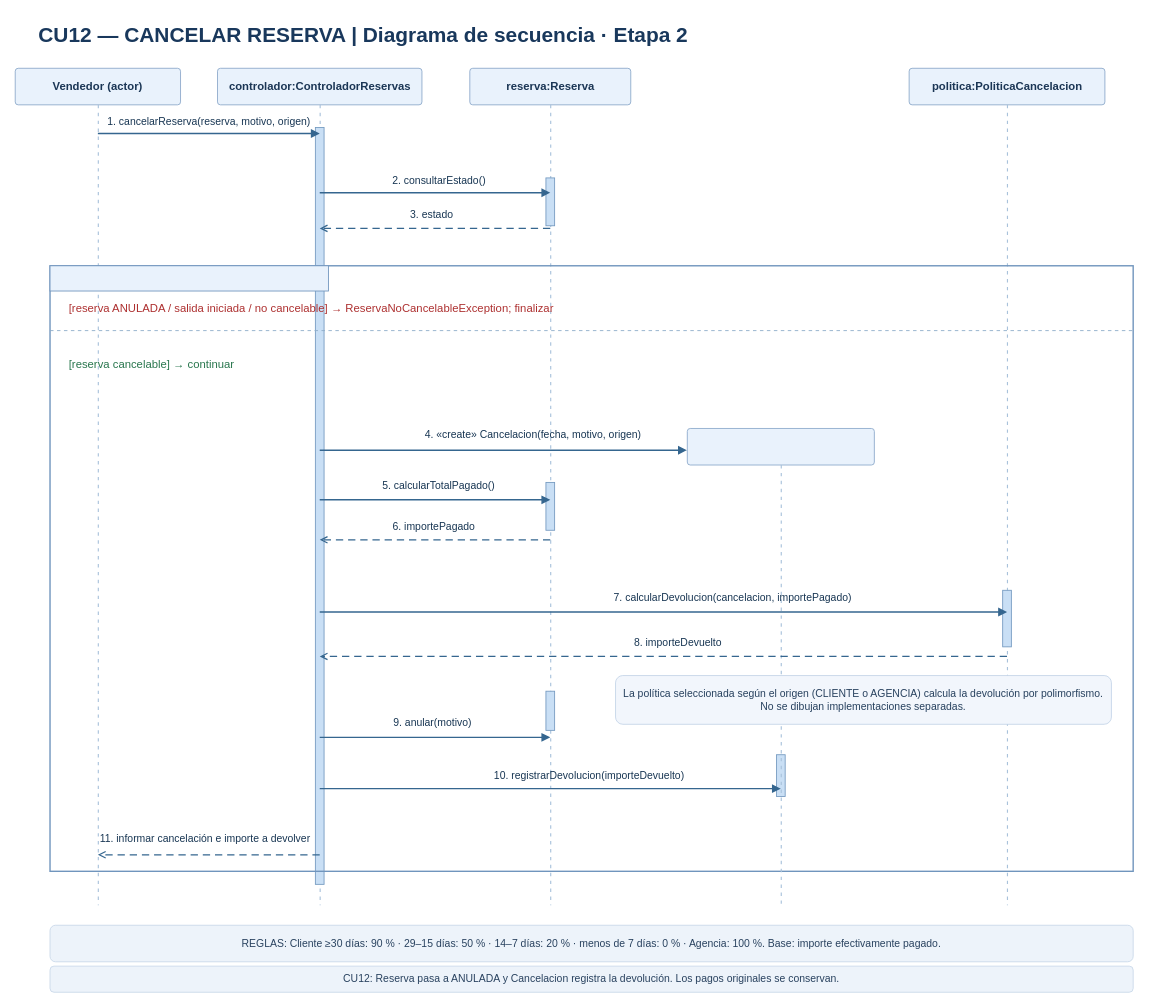
Image size: 1166x1007. Some labels were removed from this diagram. Here are the shapes that lost their labels. From the top down, the box of each, then its label:
(49, 265, 328, 291): alt — Validación de cancelación
(686, 428, 874, 465): cancelacion:Cancelacion
